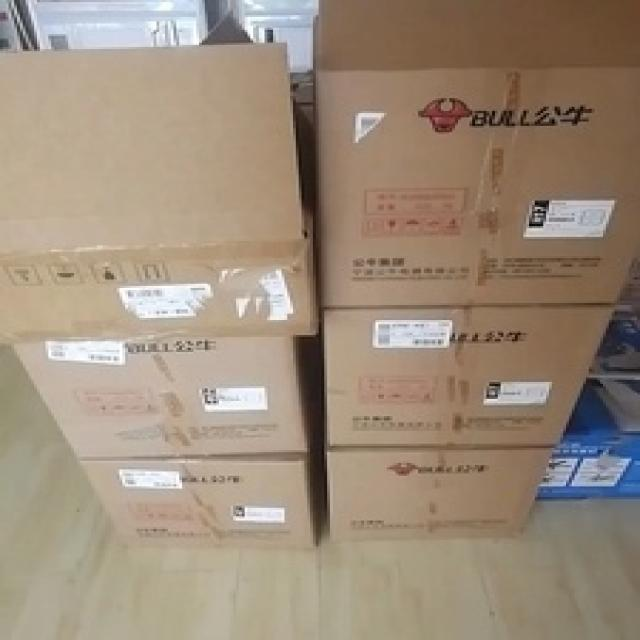box: (316, 2, 637, 307), (0, 43, 315, 346), (322, 306, 615, 445), (13, 336, 313, 461), (80, 454, 325, 553), (326, 446, 554, 540)
